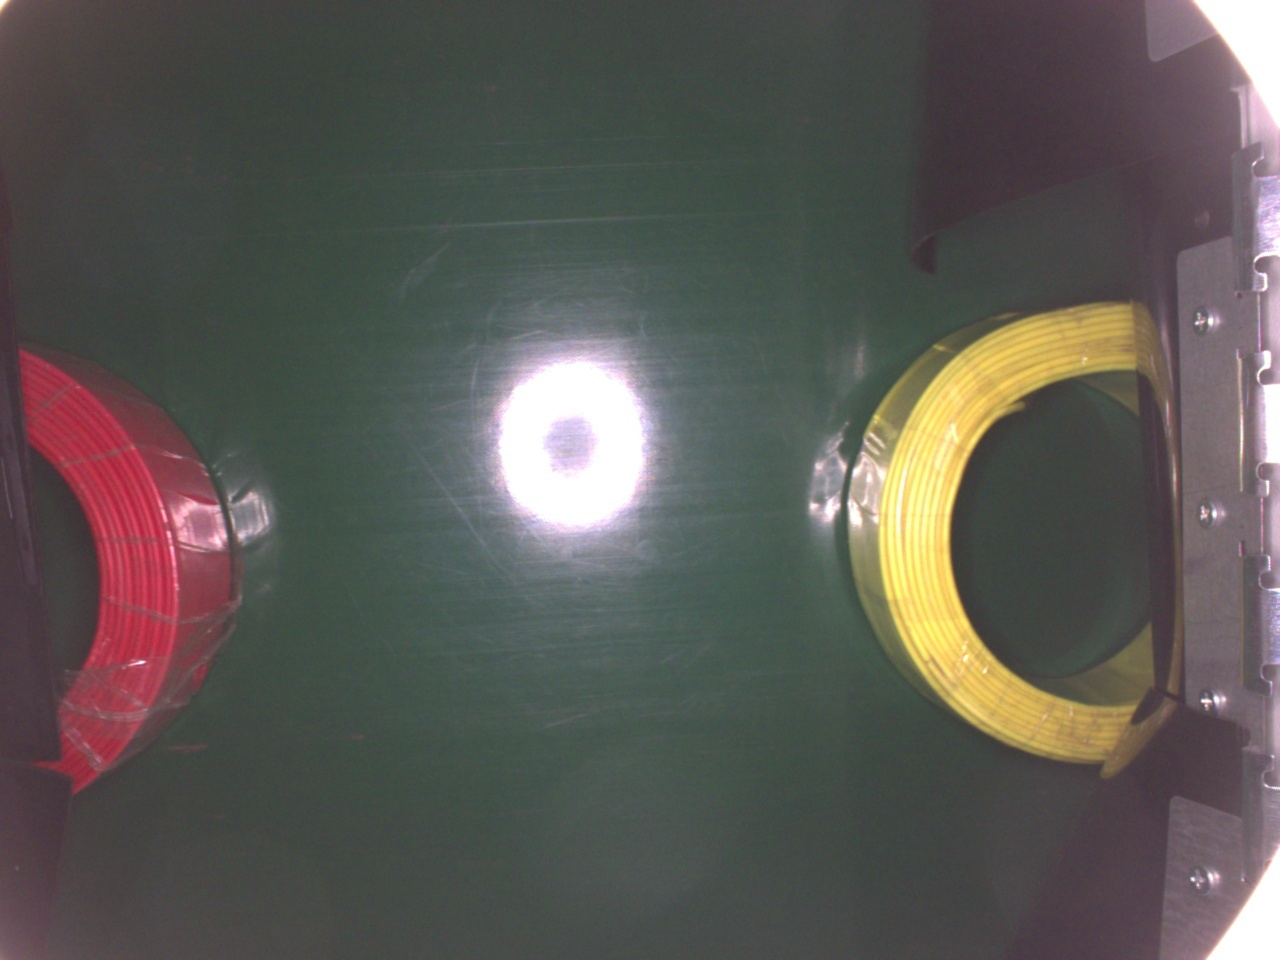red: (25, 338, 242, 794)
yellow: (843, 297, 1154, 767)
